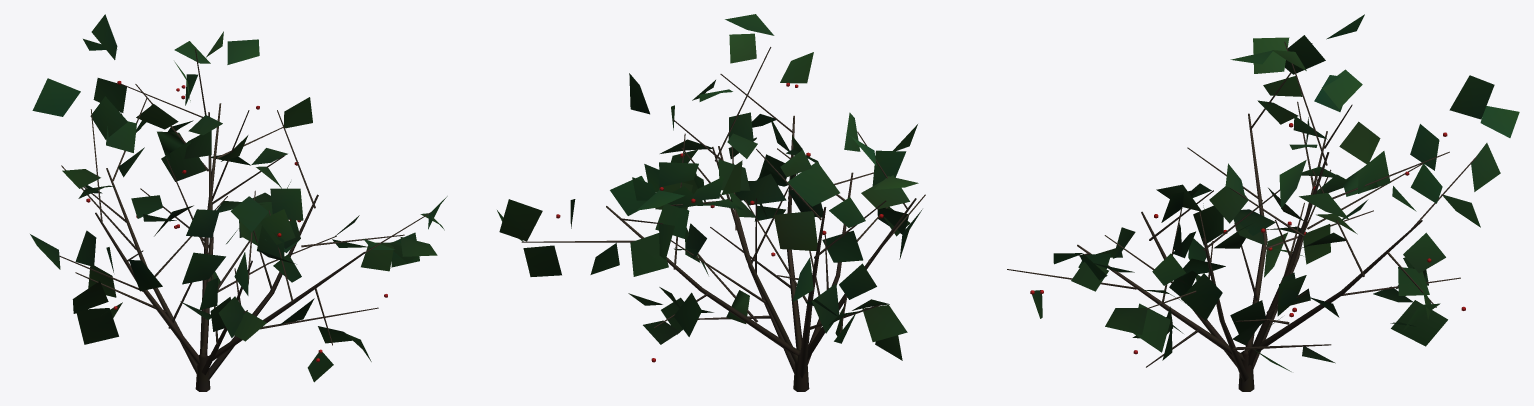
The model's file is bush-holly-a.lod1.glb.
3 views of the same model, side by side, from view 1: azimuth 30°, elevation 25°; view 2: azimuth 150°, elevation 25°; view 3: azimuth 270°, elevation 25° (orthographic). The views are drawn at different scales.
Parts seen in each view (by area): view 1: bush-holly-a.lod1; view 2: bush-holly-a.lod1; view 3: bush-holly-a.lod1.
Boxes of the visible parts, box(x1,y1,x2,y2) form: bush-holly-a.lod1: box(30, 14, 447, 391); bush-holly-a.lod1: box(497, 14, 925, 391); bush-holly-a.lod1: box(1007, 14, 1519, 391).
Size of the model in its own units: 1.97 by 1.8 by 2.55.
